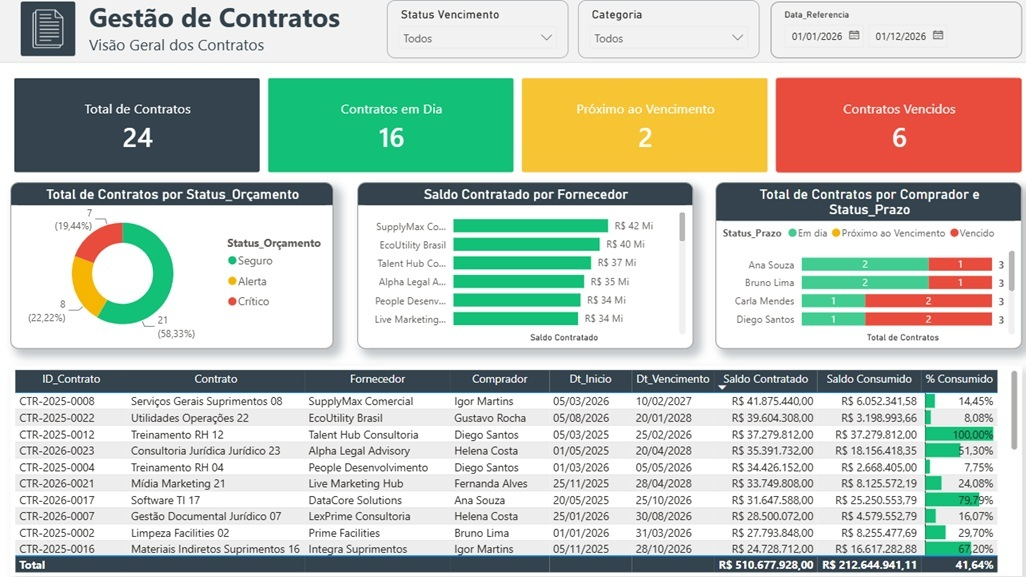

The page's visual inventory and layout, read from the dashboard file:
{"tool":"powerbi","page":{"name":"Página 1","canvas":[1280,720],"ordinal":0},"visuals":[{"type":"shape","box":[0,0,1280,83.6],"z":0},{"type":"shape","box":[0,10.7,1280,145.9],"z":1000},{"type":"image","box":[22.4,4.9,73.9,73.9],"z":2000},{"type":"textbox","box":[104.1,0,340.4,77.8],"z":3000},{"type":"cardVisual","fields":{"Data":["Medidas.Qtd de Contratos","Medidas.Contratos em Dia","Medidas.Próximo ao Vencimento","Medidas.Contratos Vencidos"]},"box":[0,83.6,1263.5,151.7],"z":4000},{"type":"donutChart","fields":{"Y":["Medidas.Total de Contratos"],"Category":["fContratos.Status_Orçamento"]},"box":[13.6,228.6,392.9,203.3],"z":5000},{"type":"clusteredBarChart","fields":{"Y":["Medidas.Saldo Contratos"],"Category":["fContratos.Fornecedor"]},"box":[435.7,228.6,408.5,203.3],"z":6000},{"type":"barChart","fields":{"Y":["Medidas.Total de Contratos"],"Category":["dContratos.Comprador"],"Series":["fContratos.Status_Prazo"]},"box":[871.5,228.6,373.5,203.3],"z":7000},{"type":"tableEx","fields":{"Values":["dContratos.ID_Contrato","fContratos.Contrato","fContratos.Fornecedor","dContratos.Comprador","fContratos.Dt_Inicio","fContratos.Dt_Vencimento","Medidas.Saldo Contratado","Medidas.Saldo Consumido","Medidas.% Consumido"]},"box":[13.6,452.3,1231.4,255.8],"z":8000},{"type":"slicer","fields":{"Values":["fContratos.Status_Prazo"]},"box":[471.7,6.8,220.8,71],"z":9000},{"type":"slicer","fields":{"Values":["dContratos.Categoria"]},"box":[704.2,6.8,220.8,71],"z":10000},{"type":"slicer","fields":{"Values":["fContratos.Data_Referencia"]},"box":[938.6,8.8,306.4,69.1],"z":11000}]}

Visuals, with their boxes in screenshot pixels (x1, y1, x2, y2), scaled from the page's 1280x720 canvas onto the 1026x577 screenshot:
shape: [0, 0, 1025, 67]
shape: [0, 9, 1025, 125]
image: [18, 4, 77, 63]
textbox: [83, 0, 356, 62]
cardVisual - Medidas.Qtd de Contratos x Medidas.Contratos em Dia: [0, 67, 1013, 189]
donutChart - Medidas.Total de Contratos x fContratos.Status_Orçamento: [11, 183, 326, 346]
clusteredBarChart - Medidas.Saldo Contratos x fContratos.Fornecedor: [349, 183, 677, 346]
barChart - Medidas.Total de Contratos x dContratos.Comprador: [699, 183, 998, 346]
tableEx - dContratos.ID_Contrato x fContratos.Contrato: [11, 362, 998, 567]
slicer - fContratos.Status_Prazo: [378, 5, 555, 62]
slicer - dContratos.Categoria: [564, 5, 741, 62]
slicer - fContratos.Data_Referencia: [752, 7, 998, 62]
